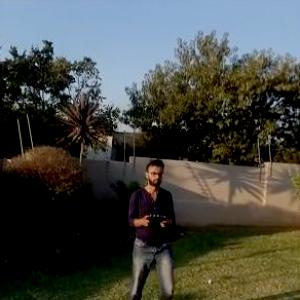follow: (123, 155, 179, 299)
